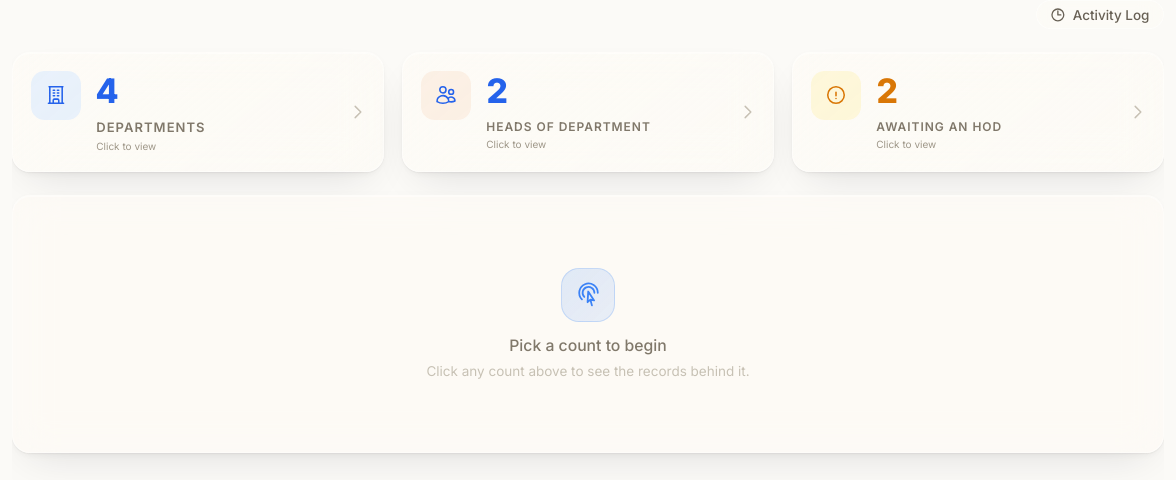
Scenario: AdminPanel â€” Awaiting an HOD › lists only the departments with no HOD
Step 1. Click the button "2 Awaiting an HOD Click to view" → (836, 95), box [792,52,1164,172]
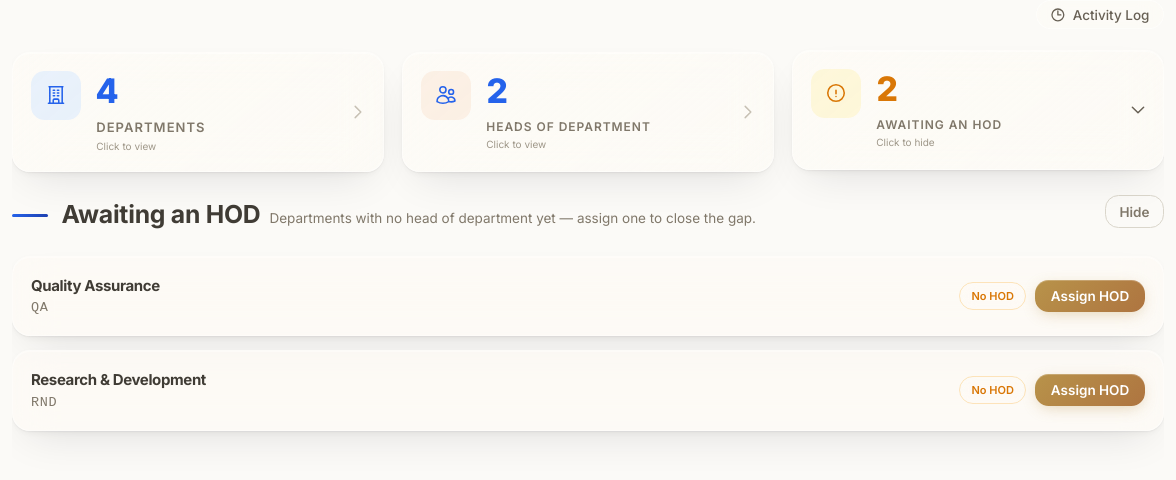
Now the text "Quality Assurance" is shown, box [31,274,160,297]
Now the text "Research & Development" is shown, box [31,369,206,391]
